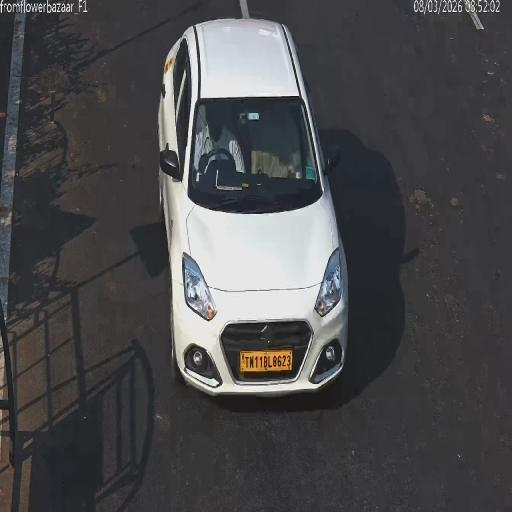person_with_seatbelt: (196, 114, 222, 171)
